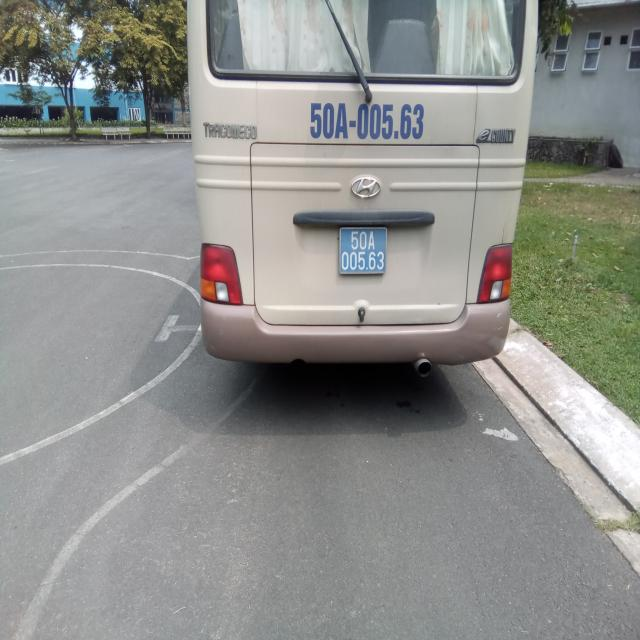bien_xanh: (337, 225, 388, 279)
